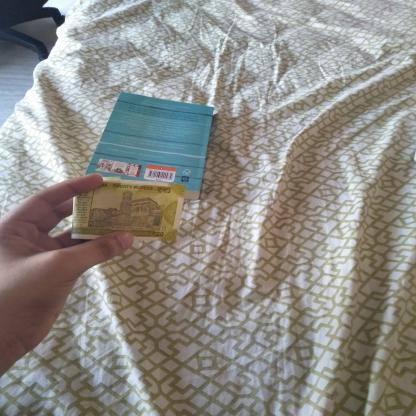New20Back: (70, 181, 184, 236)
